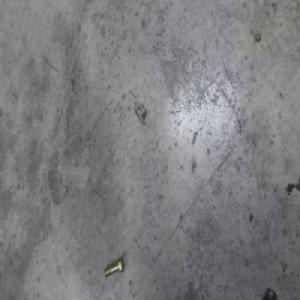Bolt: (105, 257, 126, 279)
